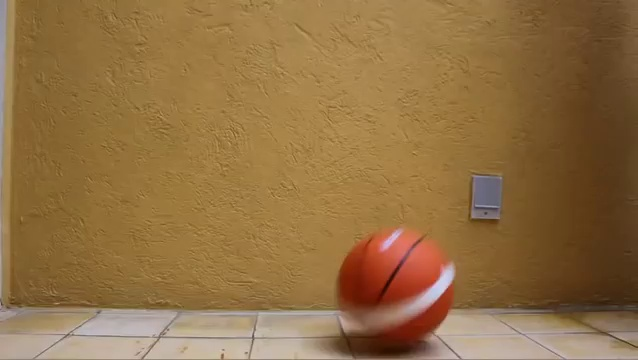ball: (337, 224, 458, 356)
